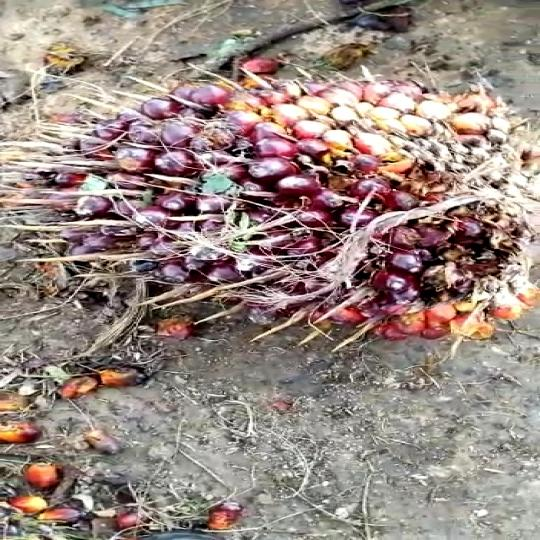masak: (33, 52, 540, 370)
